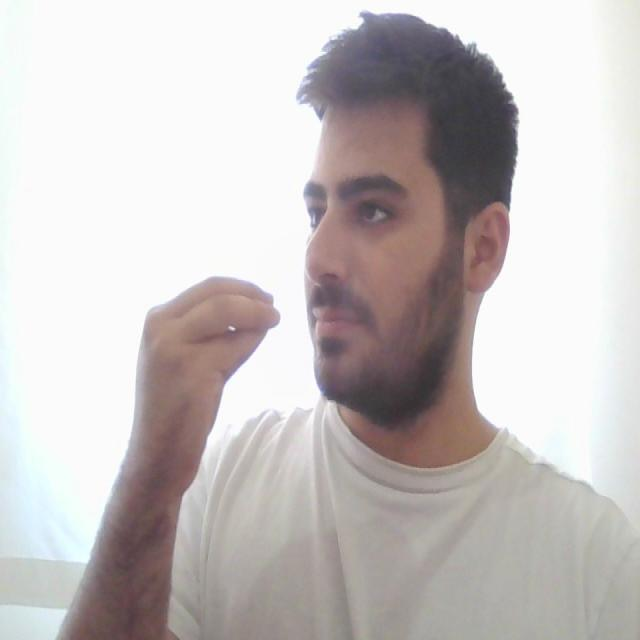Yemek: (145, 275, 354, 361)
